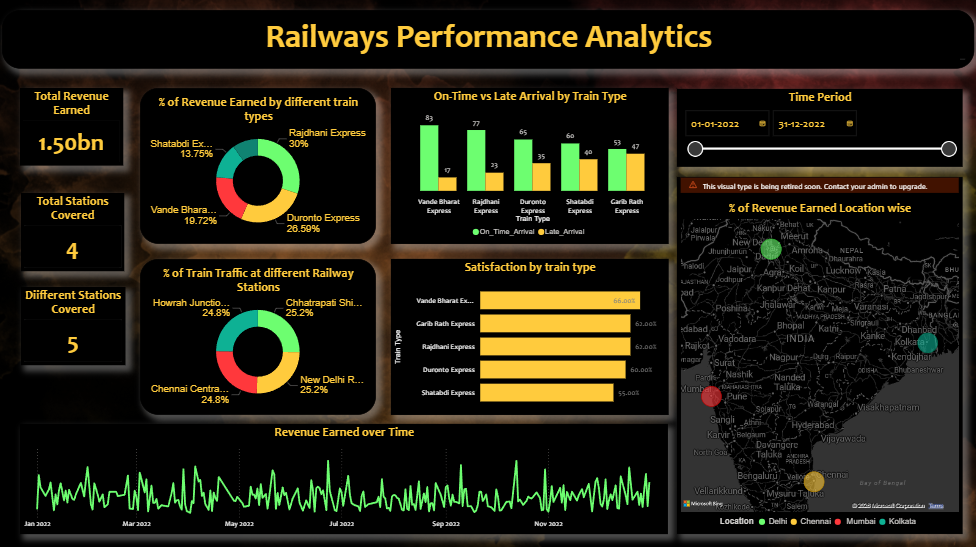

The dashboard page shown, as its layout file describes it:
{"tool":"powerbi","page":{"name":"Railways Analytics","canvas":[1600,900],"ordinal":0},"visuals":[{"type":"textbox","title":"Railways Performance Analytics","box":[5.5,16.5,1590.6,95.5],"z":0},{"type":"cardVisual","title":"Total Revenue Earned","fields":{"Data":["Measures_Table.Total_Revenue"]},"box":[34.9,143.3,169,126.7],"z":1000},{"type":"cardVisual","title":"Total Stations Covered","fields":{"Data":["Count(Station_Lookup.Station ID)"]},"box":[35.7,315.5,169,127.7],"z":2000},{"type":"cardVisual","title":"Diifferent Stations Covered","fields":{"Data":["Count(Train_Lookup.Train ID)"]},"box":[35.7,469.5,170.9,127.7],"z":3000},{"type":"donutChart","title":"% of Revenue Earned by different train types","fields":{"Y":["Measures_Table.% wise Revenue Earned"],"Category":["Train_Lookup.Train Type"]},"box":[231.4,143.3,385.7,255.3],"z":4000},{"type":"donutChart","title":"% of Train Traffic at different Railway Stations","fields":{"Y":["Measures_Table.% of Train Traffic at different Railway Stations"],"Category":["Station_Lookup.Station Name"]},"box":[231.4,424.3,385.7,255.3],"z":5000},{"type":"clusteredColumnChart","title":"On-Time vs Late Arrival by Train Type","fields":{"Y":["Measures_Table.On_Time_Arrival","Measures_Table.Late_Arrival"],"Category":["Train_Lookup.Train Type"]},"box":[641,143.3,453.7,255.3],"z":6000},{"type":"clusteredBarChart","title":"Satisfaction by train type","fields":{"Category":["Train_Lookup.Train Type"],"Y":["Measures_Table.Satisfaction by Train Type"]},"box":[641,424.3,453.7,255.3],"z":7000},{"type":"lineChart","title":"Revenue Earned over Time","fields":{"Y":["Measures_Table.Total_Revenue"],"Category":["Date_Lookup.Date"]},"box":[34.9,694.3,1059.8,180],"z":8000},{"type":"map","title":"% of Revenue Earned Location wise","fields":{"Size":["Measures_Table.% wise Revenue Earned"],"Category":["Station_Lookup.Location"],"Series":["Station_Lookup.Location"]},"box":[1109.4,290.2,466.5,584.1],"z":9000},{"type":"slicer","title":"Time Period","fields":{"Values":["Date_Lookup.Date"]},"box":[1109.4,145.1,466.5,126.7],"z":10000}]}

Visuals, with their boxes in screenshot pixels (x1, y1, x2, y2), scaled from the page's 1600x900 canvas onto the 976x547 screenshot:
"Railways Performance Analytics" textbox: BBox(3, 10, 974, 68)
"Total Revenue Earned" cardVisual: BBox(21, 87, 124, 164)
"Total Stations Covered" cardVisual: BBox(22, 192, 125, 269)
"Diifferent Stations Covered" cardVisual: BBox(22, 285, 126, 363)
"% of Revenue Earned by different train types" donutChart: BBox(141, 87, 376, 242)
"% of Train Traffic at different Railway Stations" donutChart: BBox(141, 258, 376, 413)
"On-Time vs Late Arrival by Train Type" clusteredColumnChart: BBox(391, 87, 668, 242)
"Satisfaction by train type" clusteredBarChart: BBox(391, 258, 668, 413)
"Revenue Earned over Time" lineChart: BBox(21, 422, 668, 531)
"% of Revenue Earned Location wise" map: BBox(677, 176, 961, 531)
"Time Period" slicer: BBox(677, 88, 961, 165)
